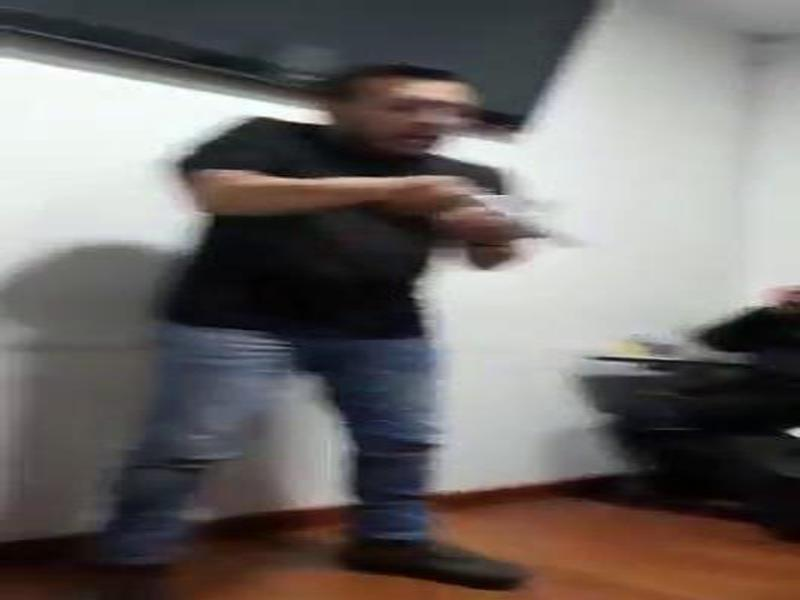Revolver: (447, 163, 589, 286)
